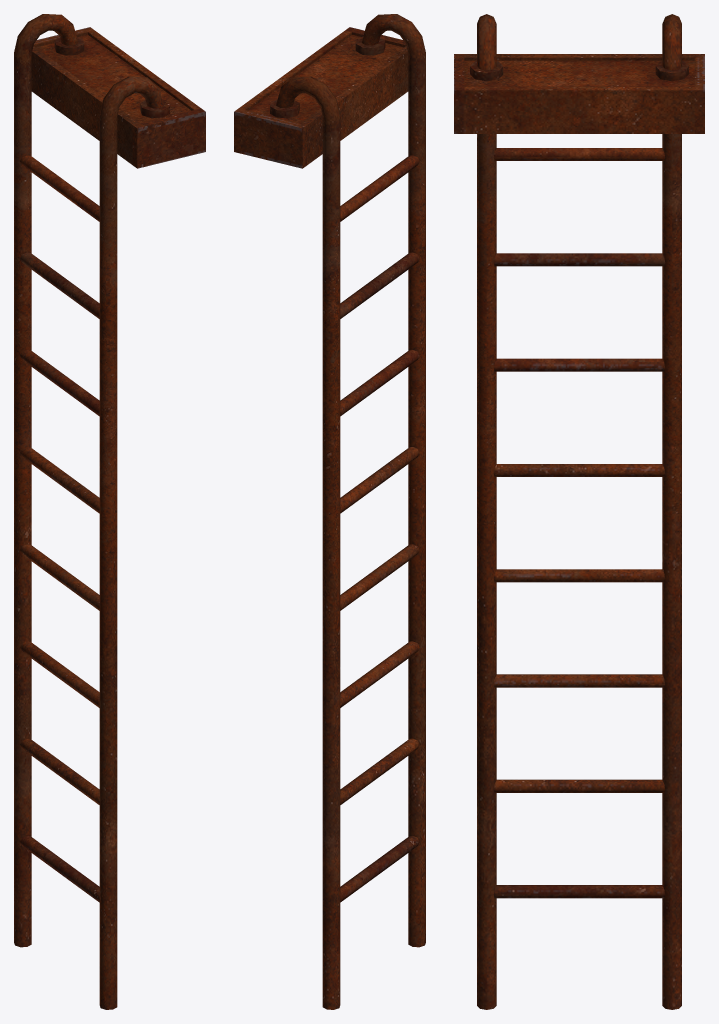
Rendered from ladder.fbx.
3 views of the same model, side by side, from view 1: azimuth 30°, elevation 25°; view 2: azimuth 150°, elevation 25°; view 3: azimuth 270°, elevation 25° (orthographic). The views are drawn at different scales.
Visible parts, largest first — view 1: ladder; view 2: ladder; view 3: ladder.
Boxes of the visible parts, box(x1,y1,x2,y2) form: ladder: box(14, 14, 205, 1009); ladder: box(234, 14, 425, 1009); ladder: box(454, 14, 704, 1009).
Bounding box in the file's own units: 0.4859 × 4.75 × 1.08.
